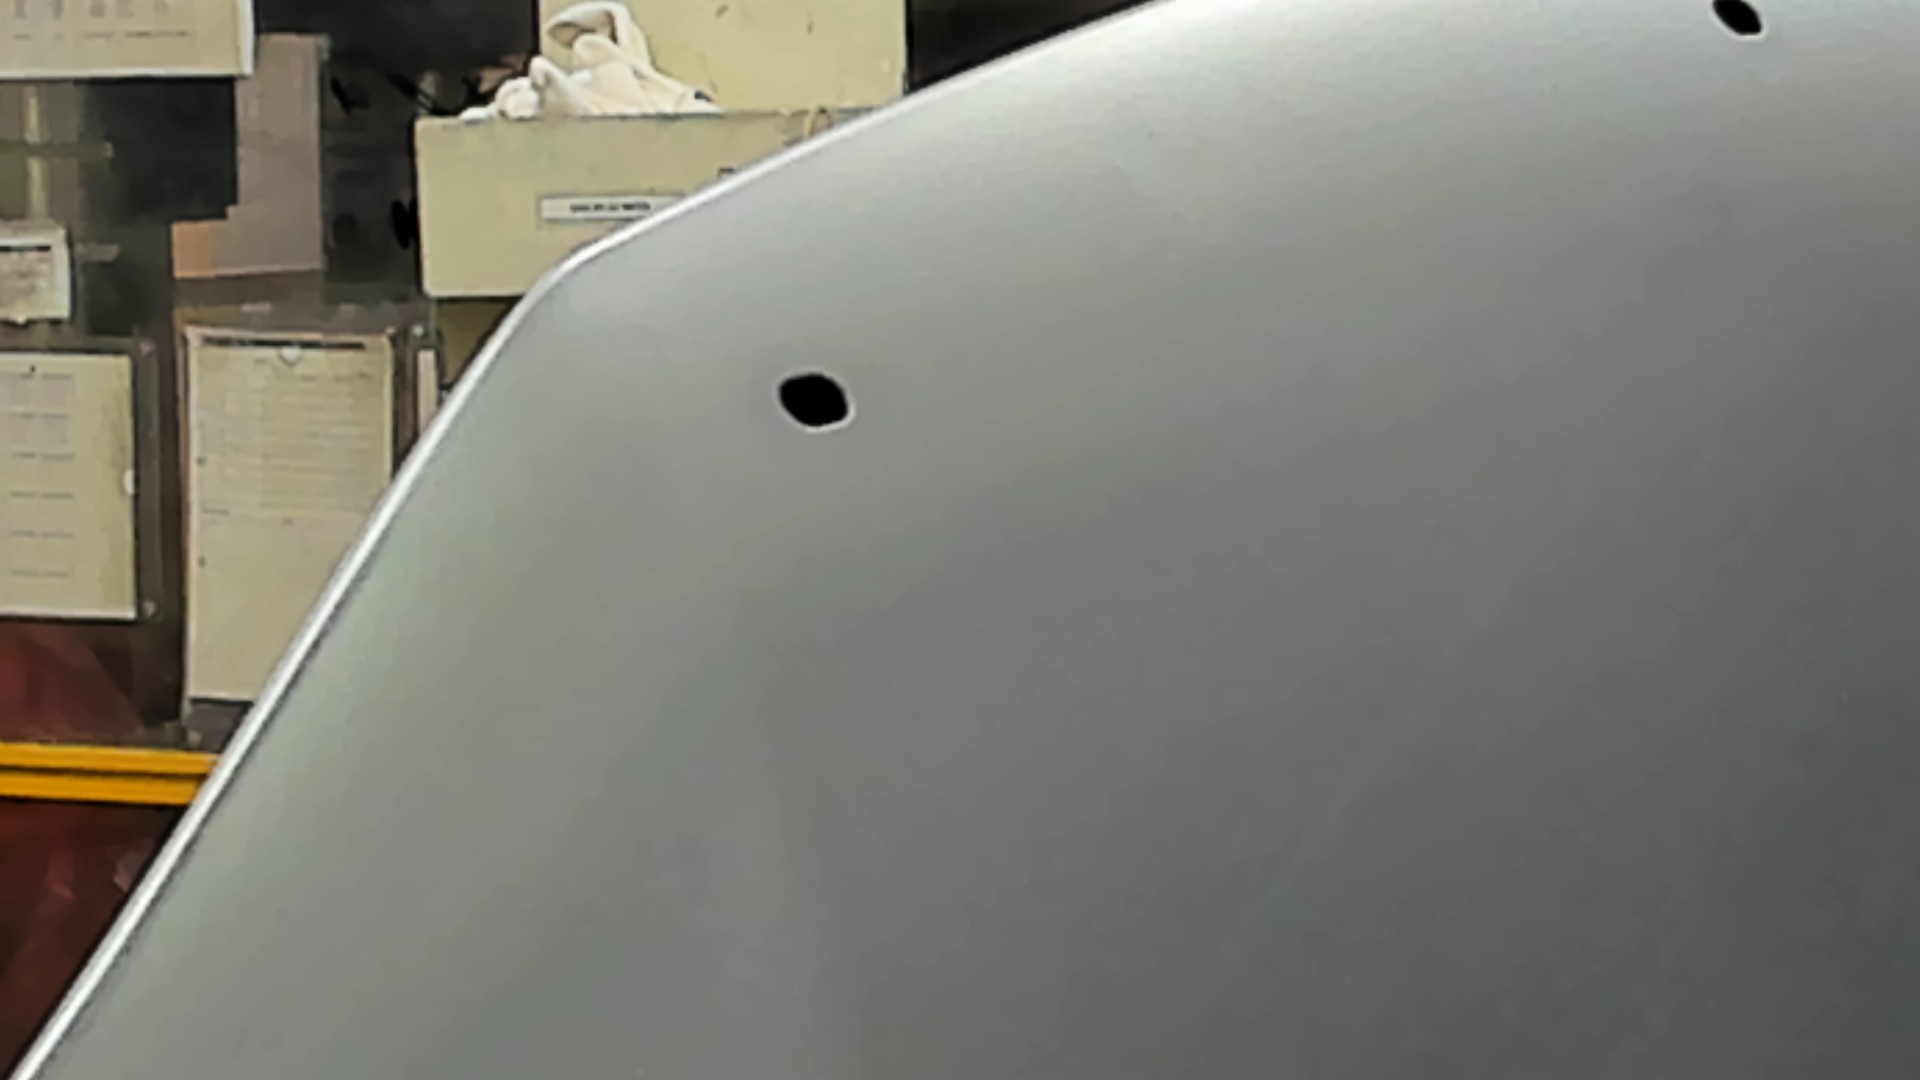amorfo: (766, 372, 861, 436), (1697, 1, 1779, 47)
